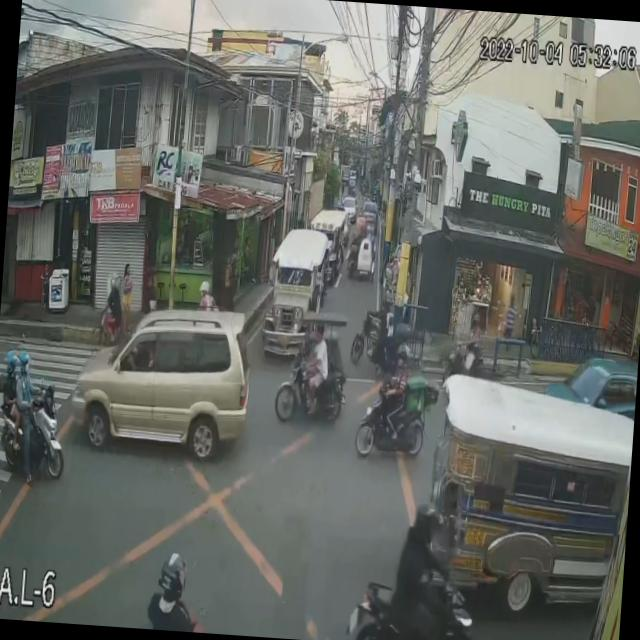full: (156, 552, 188, 606)
half: (393, 340, 412, 375), (4, 348, 18, 378), (18, 351, 32, 374)
